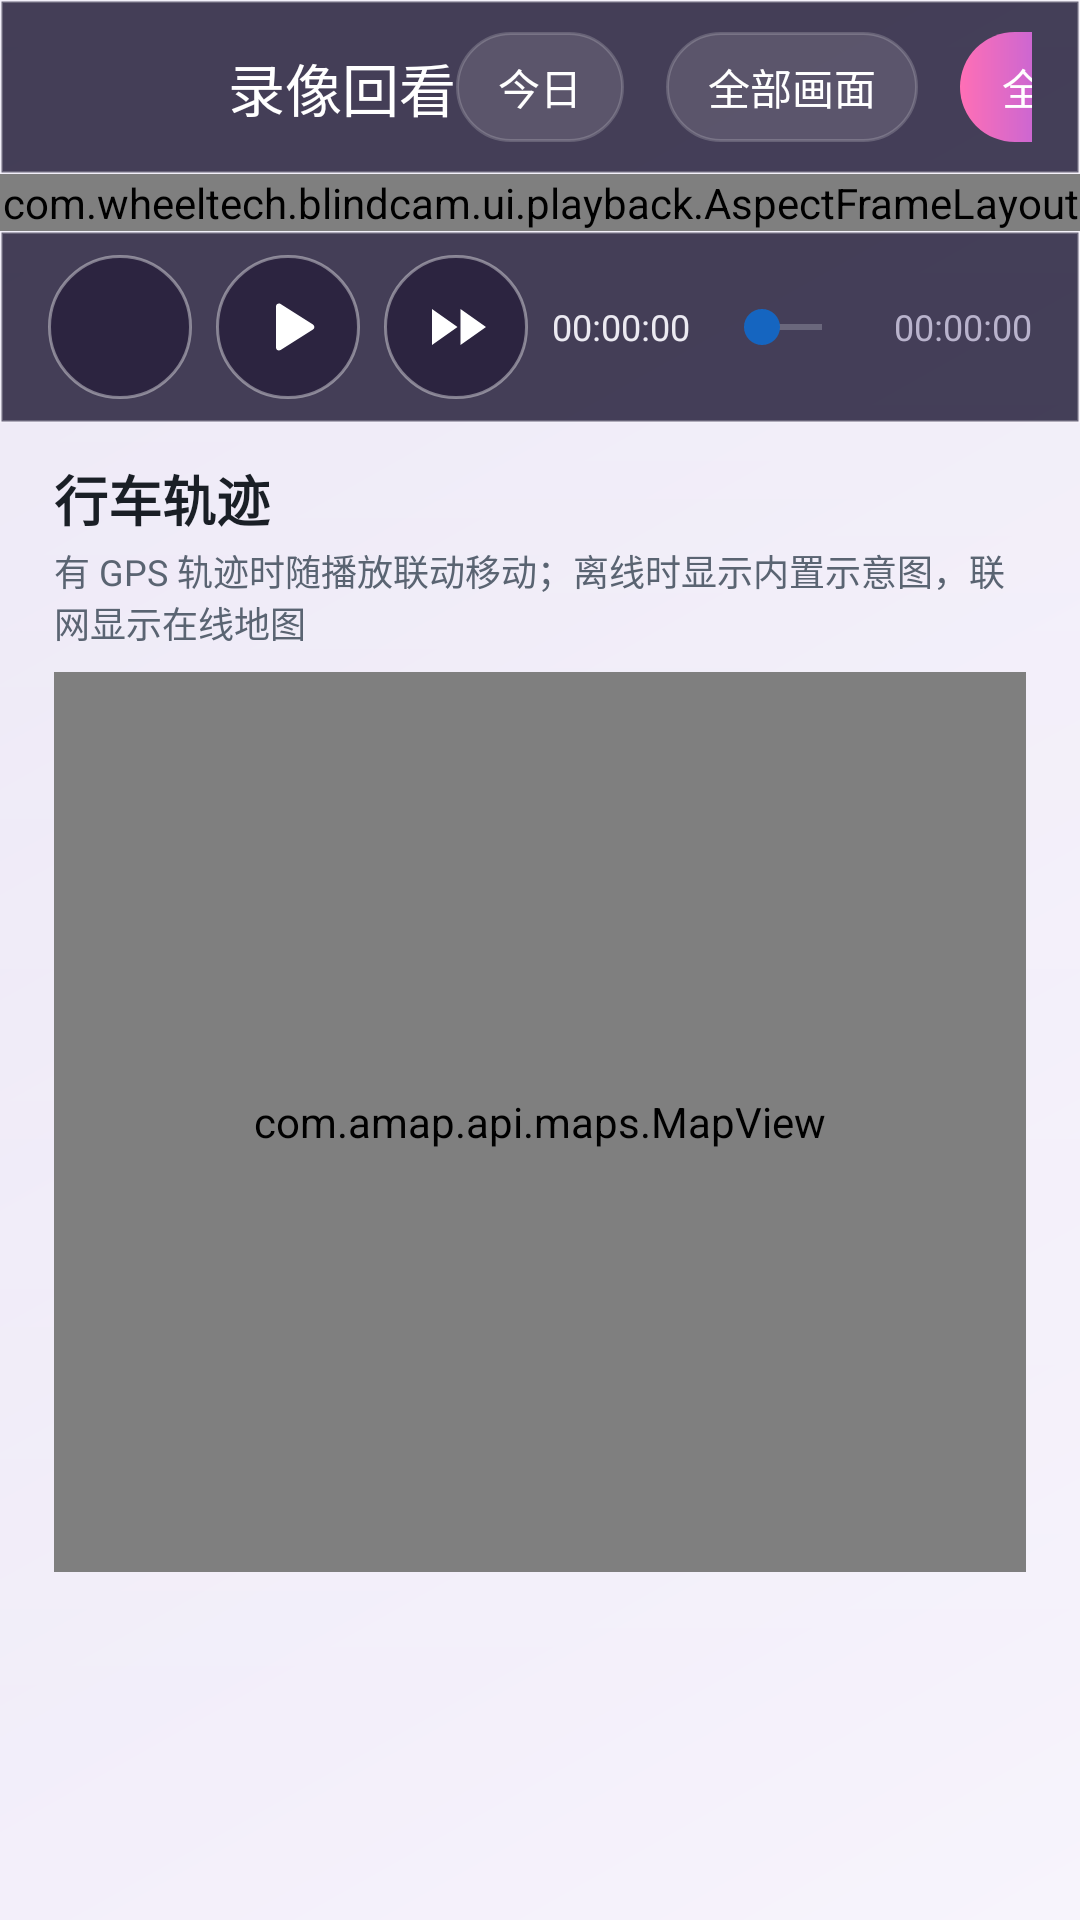

Named icons in this screenshot (1080 x 1920) and their bounding boxes, (x1, y1, x2, y2):
快进 10 秒: (384, 255, 528, 399)
